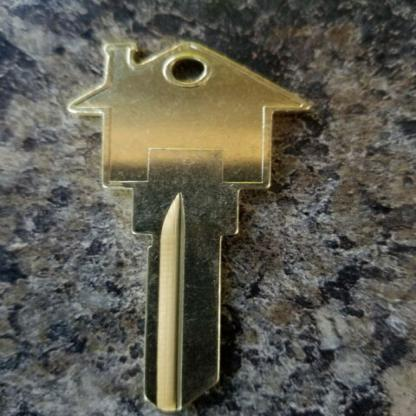key: (66, 42, 303, 411)
